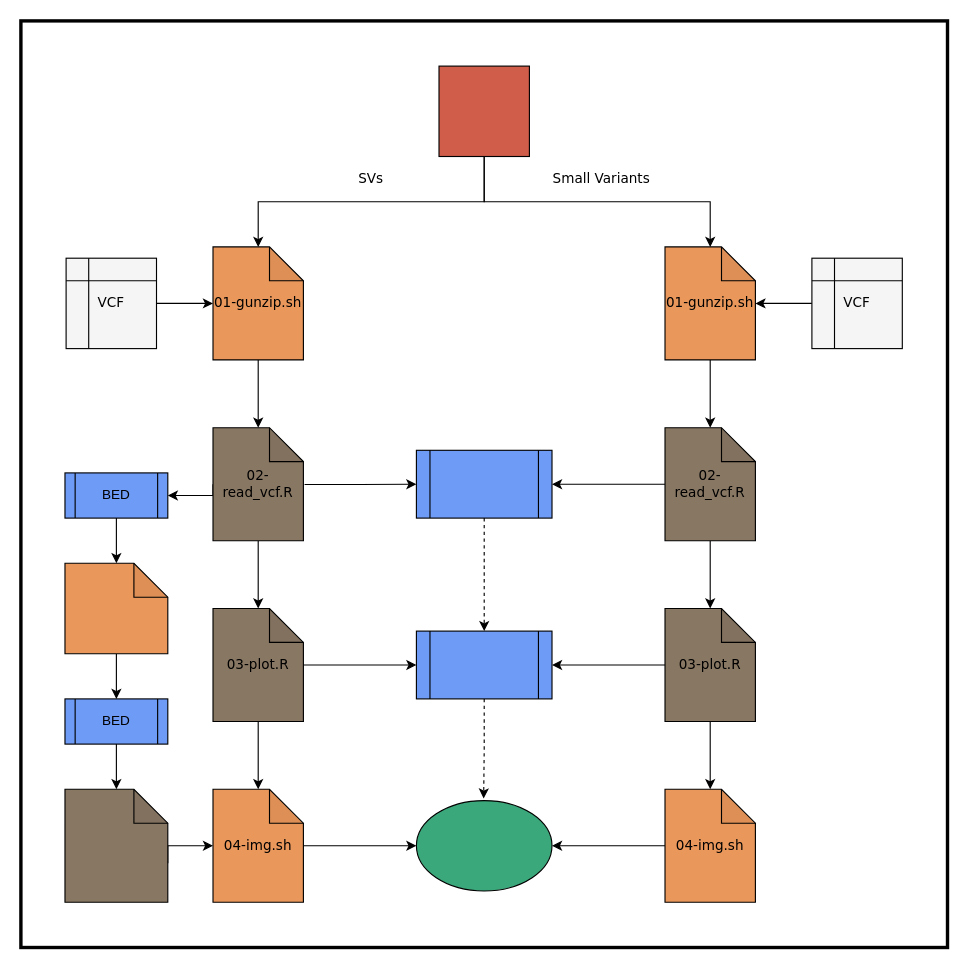
The diagram is 968 pixels wide and 968 high, and some of its shapes have lost their labels. Each missing label, with the box of its shape:
bedtools.sh: (64, 562, 168, 654)
Figures: (415, 630, 552, 699)
Rcircos.R: (64, 788, 168, 902)
Report: (415, 799, 552, 891)
Tables, summaries, BED: (415, 449, 552, 518)
vcfMAN.sh: (438, 65, 529, 157)
